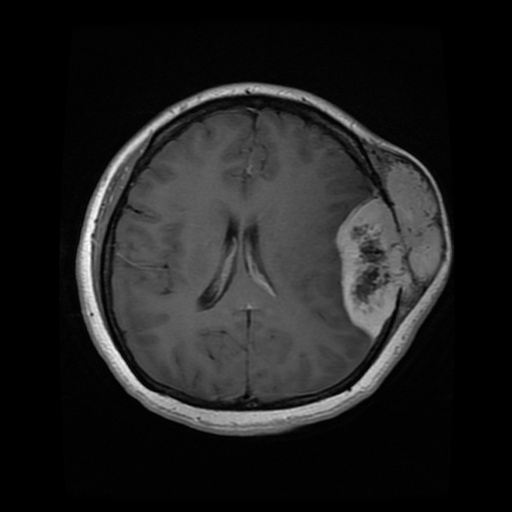meningioma: (335, 162, 442, 335)
